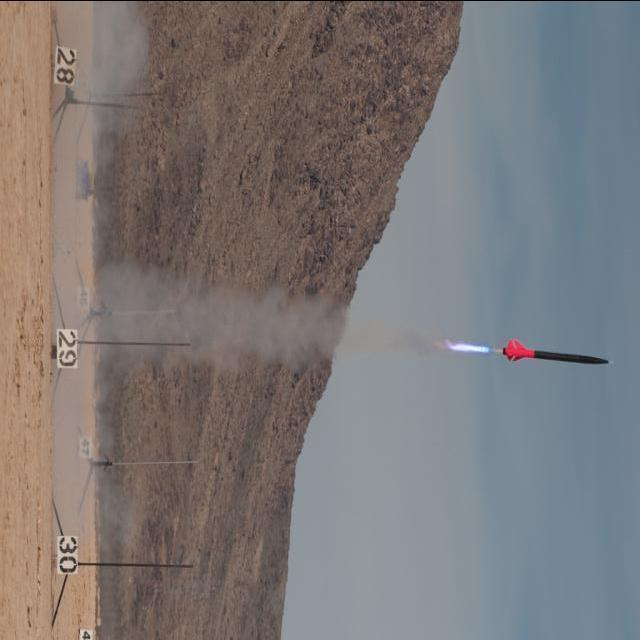missile: (499, 336, 617, 391)
